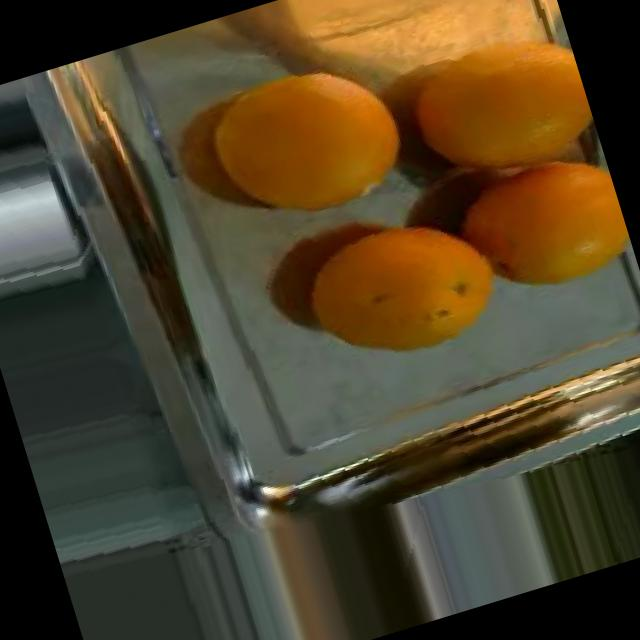Fruit: (295, 184, 522, 383), (421, 123, 640, 325), (493, 0, 579, 83)
